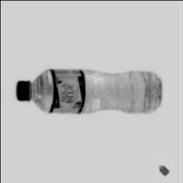bottle: (14, 66, 163, 116)
